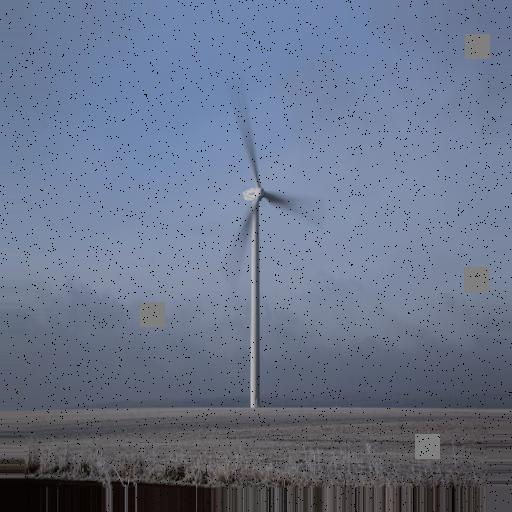wind turbine: (226, 86, 327, 412)
